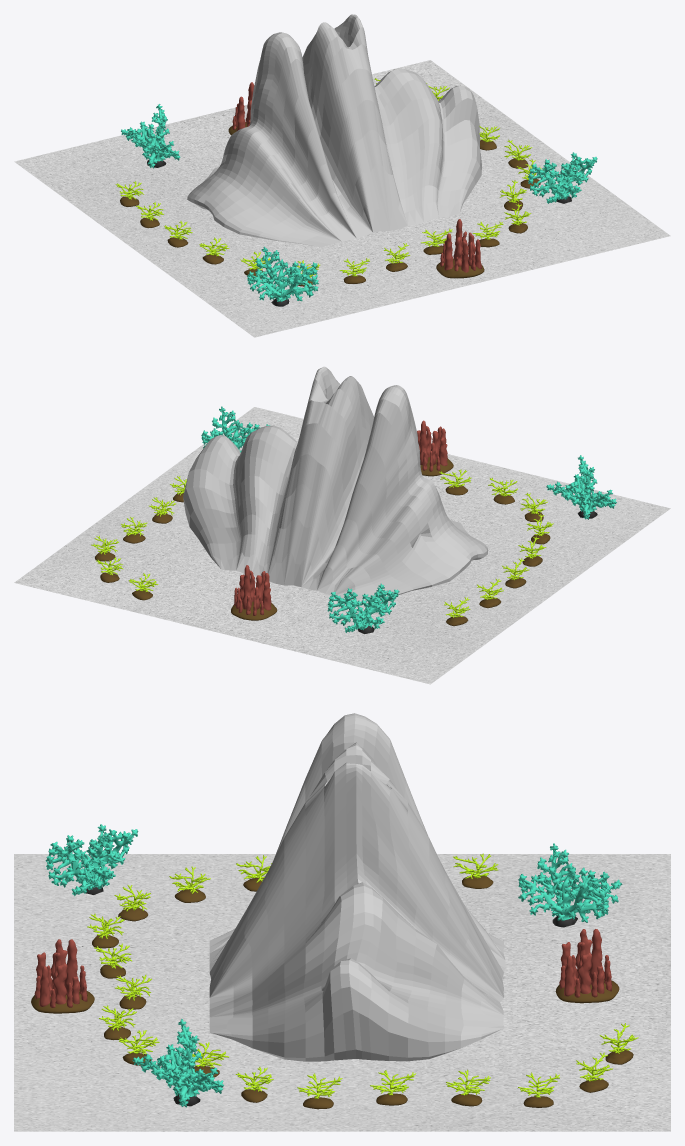
Rendered from Escenario1.fbx.
The picture shows the model from 3 angles, top to bottom: view 1: azimuth 30°, elevation 25°; view 2: azimuth 150°, elevation 25°; view 3: azimuth 270°, elevation 25°; orthographic projection. The views are drawn at different scales.
Visible parts, largest first — view 1: Plane, GeiserPart.001, 20942_Staghorn_Coral_v1_NEW, 21488_Tree_Coral_v2_NEW.001, 21488_Tree_Coral_v2_NEW.002, 20944_Pillar_Coral_v1.002, 21488_Tree_Coral_v2_NEW, 20944_Pillar_Coral_v1.001; view 2: Plane, GeiserPart.001, 20942_Staghorn_Coral_v1_NEW, 21488_Tree_Coral_v2_NEW, 20944_Pillar_Coral_v1.001, 21488_Tree_Coral_v2_NEW.001, 20944_Pillar_Coral_v1.002, 21488_Tree_Coral_v2_NEW.002; view 3: Plane, GeiserPart.001, 20942_Staghorn_Coral_v1_NEW, 21488_Tree_Coral_v2_NEW, 21488_Tree_Coral_v2_NEW.001, 20944_Pillar_Coral_v1.001, 20944_Pillar_Coral_v1.002, 21488_Tree_Coral_v2_NEW.002.
Part boxes in pixels (bbox=[...]): Plane: bbox=[14, 60, 670, 337]; GeiserPart.001: bbox=[187, 14, 481, 247]; 20942_Staghorn_Coral_v1_NEW: bbox=[115, 78, 543, 286]; 21488_Tree_Coral_v2_NEW.001: bbox=[247, 246, 318, 306]; 21488_Tree_Coral_v2_NEW.002: bbox=[528, 152, 597, 203]; 20944_Pillar_Coral_v1.002: bbox=[436, 219, 484, 278]; 21488_Tree_Coral_v2_NEW: bbox=[121, 104, 180, 168]; 20944_Pillar_Coral_v1.001: bbox=[228, 82, 254, 135]; Plane: bbox=[14, 407, 670, 684]; GeiserPart.001: bbox=[183, 366, 488, 600]; 20942_Staghorn_Coral_v1_NEW: bbox=[91, 469, 553, 626]; 21488_Tree_Coral_v2_NEW: bbox=[327, 583, 399, 634]; 20944_Pillar_Coral_v1.001: bbox=[231, 565, 277, 620]; 21488_Tree_Coral_v2_NEW.001: bbox=[546, 455, 616, 519]; 20944_Pillar_Coral_v1.002: bbox=[417, 420, 453, 476]; 21488_Tree_Coral_v2_NEW.002: bbox=[201, 406, 269, 452]; Plane: bbox=[14, 854, 670, 1131]; GeiserPart.001: bbox=[209, 713, 505, 1061]; 20942_Staghorn_Coral_v1_NEW: bbox=[87, 853, 638, 1109]; 21488_Tree_Coral_v2_NEW: bbox=[518, 843, 622, 927]; 21488_Tree_Coral_v2_NEW.001: bbox=[45, 824, 138, 896]; 20944_Pillar_Coral_v1.001: bbox=[555, 929, 619, 1003]; 20944_Pillar_Coral_v1.002: bbox=[31, 939, 94, 1013]; 21488_Tree_Coral_v2_NEW.002: bbox=[132, 1019, 223, 1107].
Bounding box in the file's own units: 14660 × 5928 × 14660.
